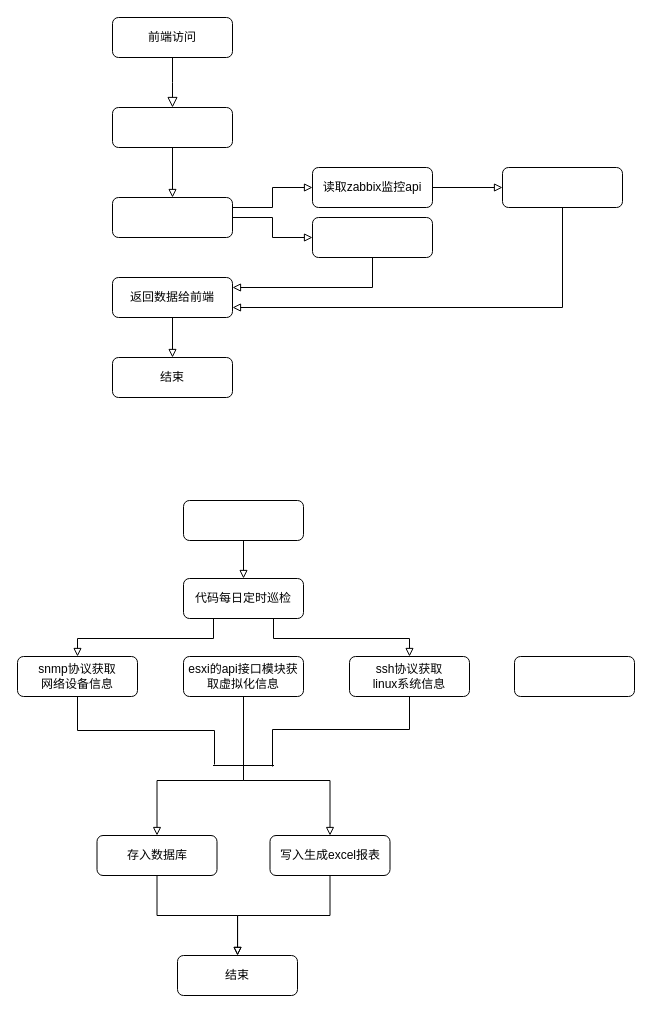
Image size: 652x1013. Some labels were removed from this diagram. Here are the shapes that lost their labels. From the top down, the centre of each, then its label:
At point (172, 127): "请求flask http服务".
At point (562, 187): "获取监控告警数据".
At point (172, 217): "根据请求，路由选择".
At point (372, 237): "获取数据库数据".
At point (243, 520): "启动巡检程序".
At point (574, 676): "windows系统 信息获取待定".
